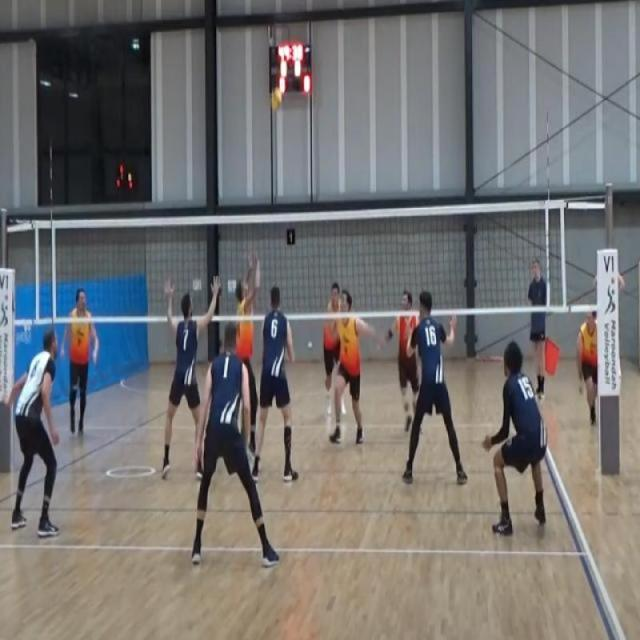volleyball: (269, 84, 284, 115)
